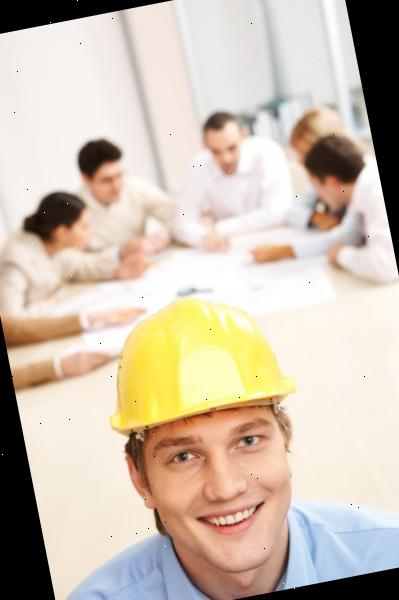helmet: (78, 276, 301, 444)
